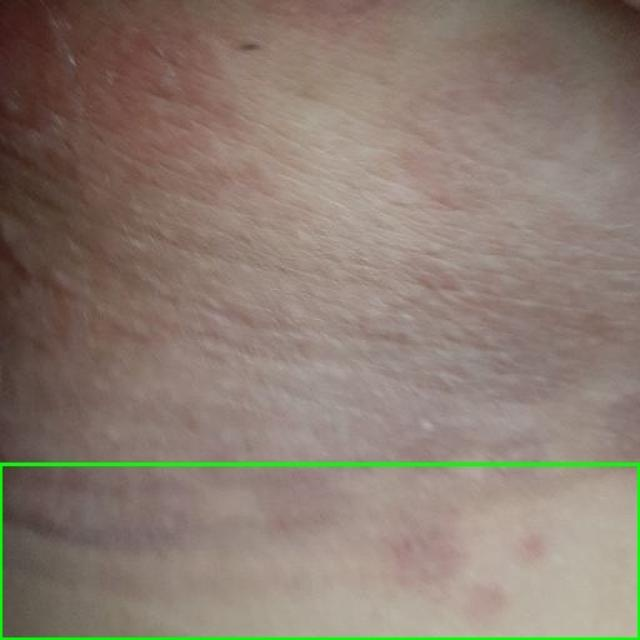Tinea Corporis: (0, 464, 639, 639)
